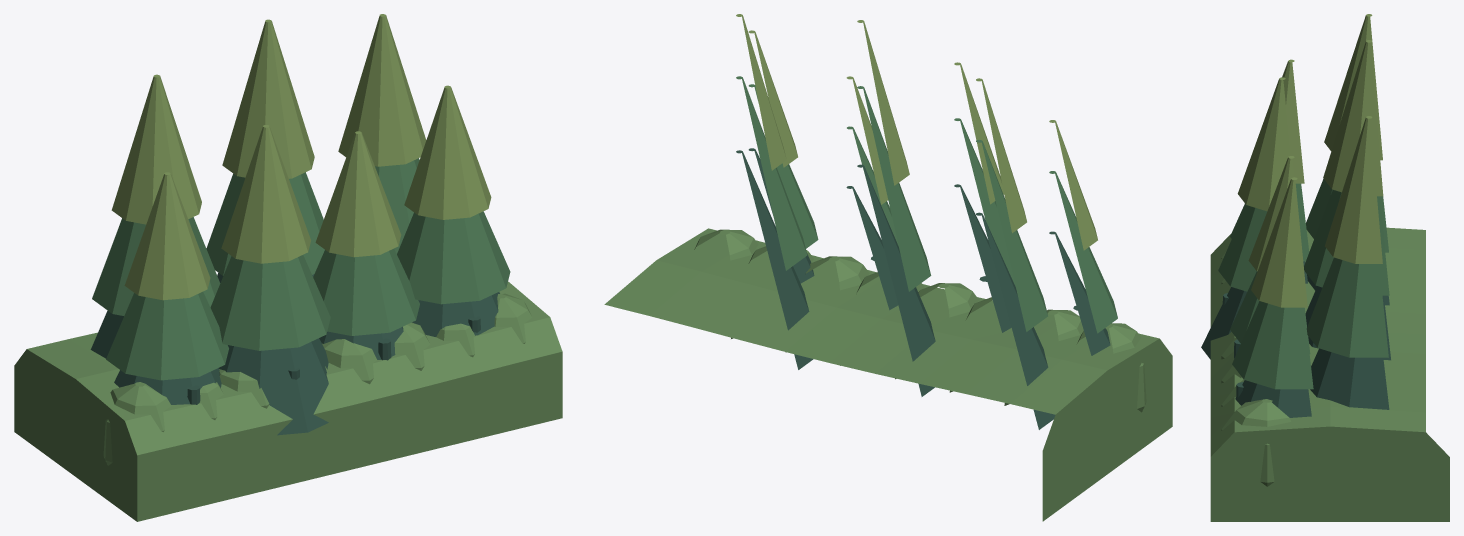
File: edge_forest_pine.glb
The picture shows the model from 3 angles, left to right: view 1: azimuth 30°, elevation 25°; view 2: azimuth 150°, elevation 25°; view 3: azimuth 270°, elevation 25°; orthographic projection. The views are drawn at different scales.
Parts seen in each view (by area): view 1: Leaf_Mesh, LeafTip_Mesh, Pine_Mesh, PineDark_Mesh; view 2: Leaf_Mesh, Pine_Mesh, PineDark_Mesh, LeafTip_Mesh; view 3: Leaf_Mesh, LeafTip_Mesh, Pine_Mesh, PineDark_Mesh.
Part boxes in pixels (<box>): Leaf_Mesh: <box>14,281,562,521</box>; LeafTip_Mesh: <box>111,14,491,300</box>; Pine_Mesh: <box>92,158,510,380</box>; PineDark_Mesh: <box>90,273,499,435</box>; Leaf_Mesh: <box>604,228,1172,521</box>; Pine_Mesh: <box>736,76,1117,333</box>; PineDark_Mesh: <box>736,148,1110,429</box>; LeafTip_Mesh: <box>736,14,1097,250</box>; Leaf_Mesh: <box>1210,227,1449,521</box>; LeafTip_Mesh: <box>1237,14,1383,307</box>; Pine_Mesh: <box>1218,179,1389,389</box>; PineDark_Mesh: <box>1201,261,1390,417</box>.
Size of the model in its own units: 8.09 by 7 by 4.16.
